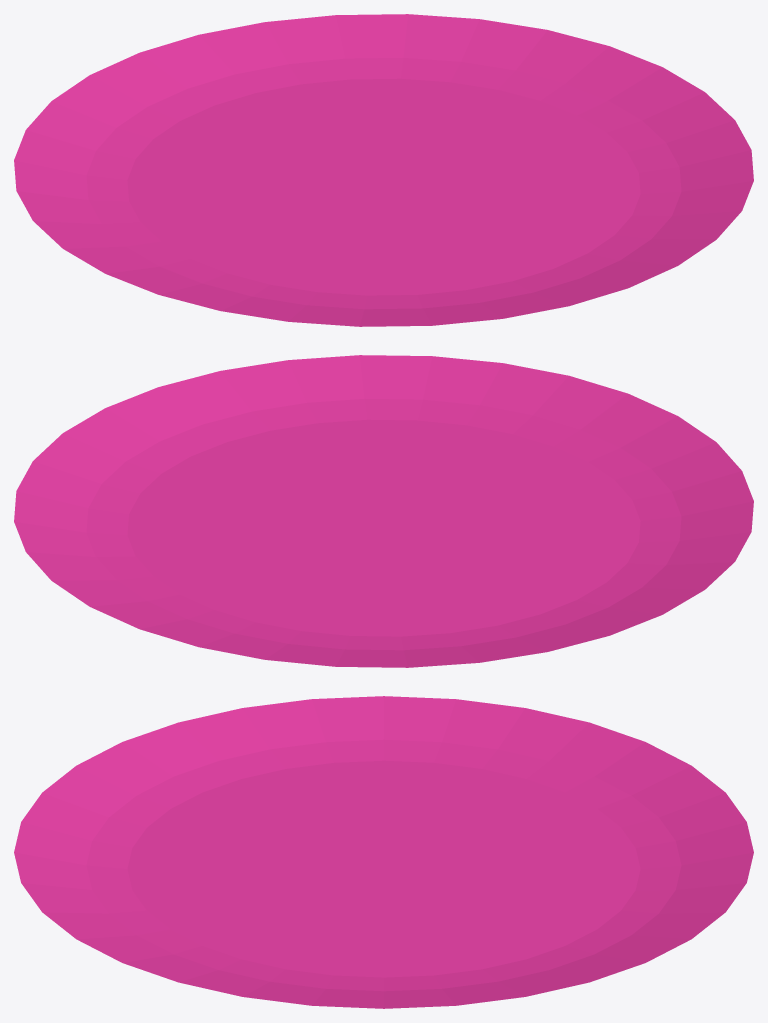
The model's file is plate.fbx.
3 views of the same model, one above another, from view 1: azimuth 30°, elevation 25°; view 2: azimuth 150°, elevation 25°; view 3: azimuth 270°, elevation 25° (orthographic).
Visible parts, largest first — view 1: Cylinder; view 2: Cylinder; view 3: Cylinder.
Boxes of the visible parts, x1,y1,x2,y2 form: Cylinder: (14,14,753,326); Cylinder: (14,355,753,667); Cylinder: (14,696,753,1008).
Size of the model in its own units: 24.21 by 1.03 by 24.21.
